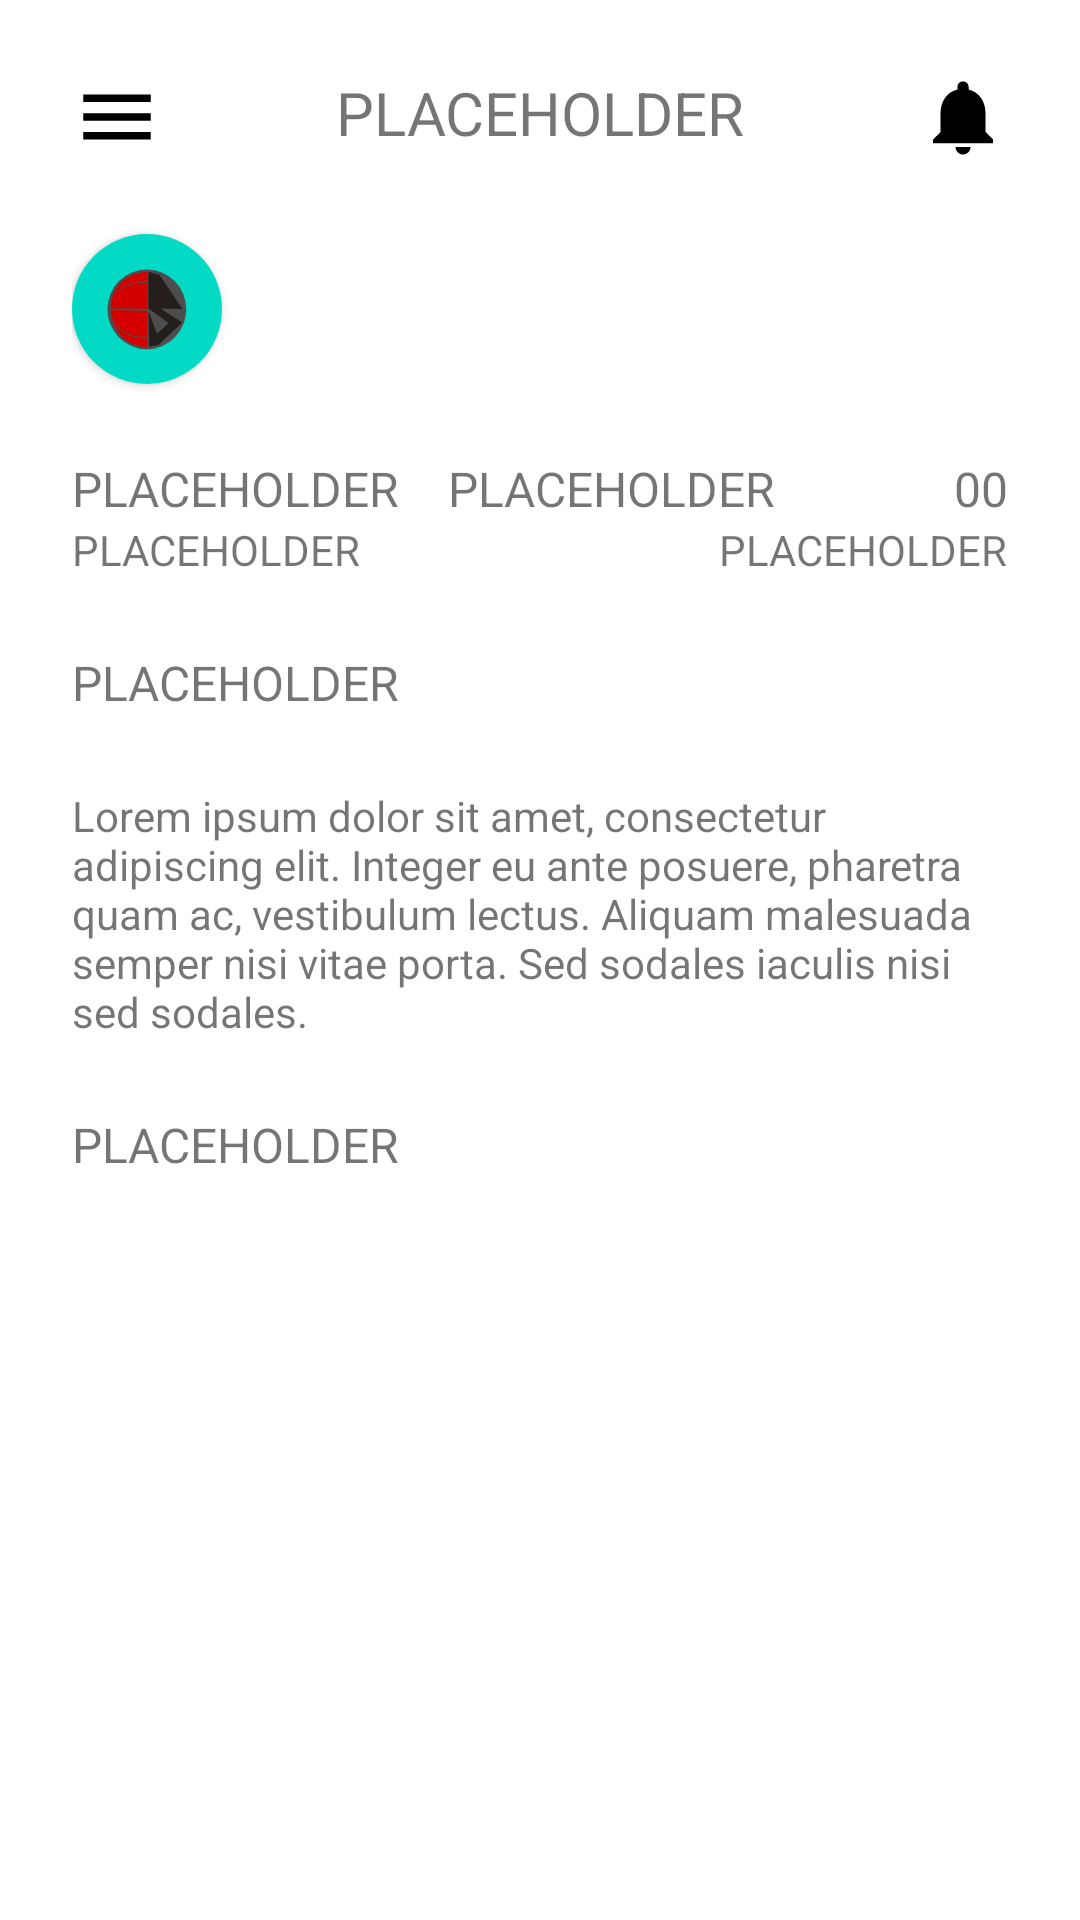

Screen size 1080x1920. Icon name, then its center in pixels as (x,y):
menu: (117,117)
notifications: (963,118)
